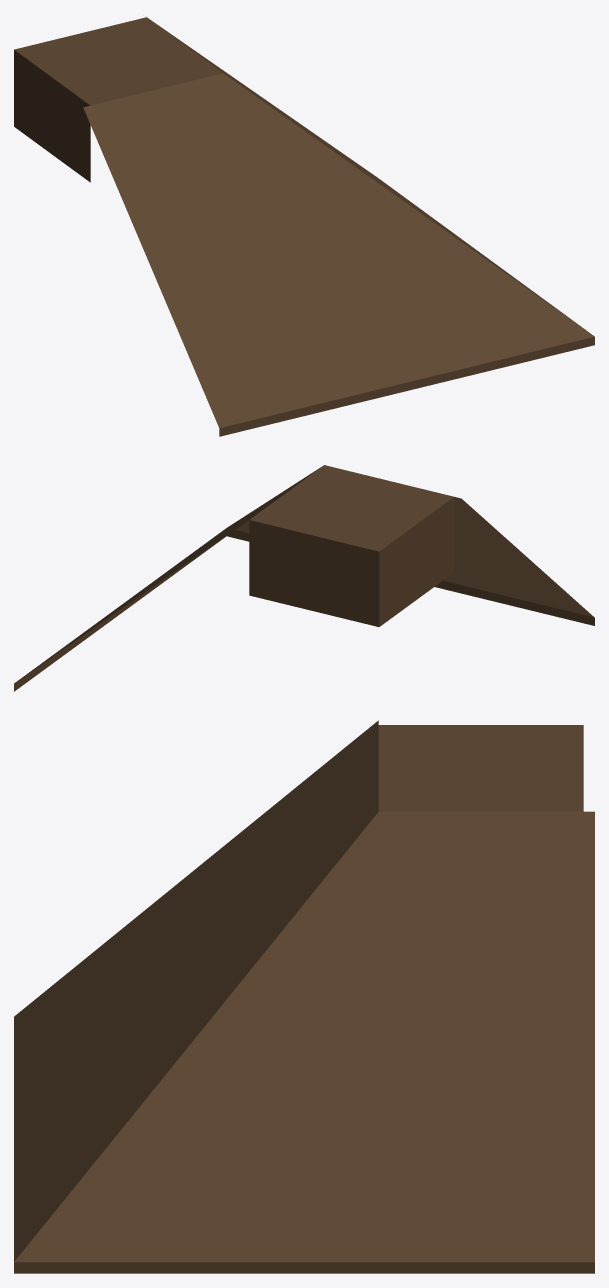
Rendered from Roof Hip.fbx.
The picture shows the model from 3 angles, top to bottom: view 1: azimuth 30°, elevation 25°; view 2: azimuth 150°, elevation 25°; view 3: azimuth 270°, elevation 25°; orthographic projection. The views are drawn at different scales.
Parts seen in each view (by area): view 1: Roof Hip; view 2: Roof Hip; view 3: Roof Hip.
Boxes of the visible parts, <box> form: Roof Hip: <box>14,17,594,436</box>; Roof Hip: <box>14,465,594,691</box>; Roof Hip: <box>14,720,594,1273</box>.
Bounding box in the file's own units: 51 × 29.81 × 51.
